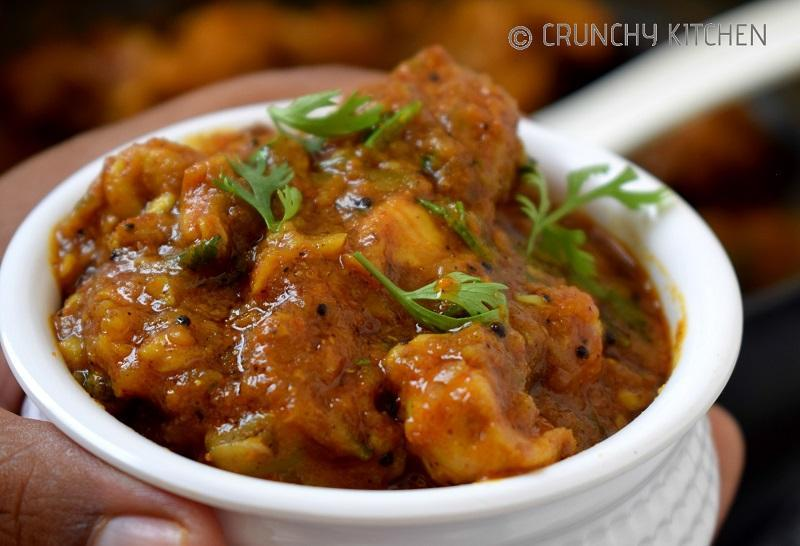chicken: (100, 99, 606, 441)
